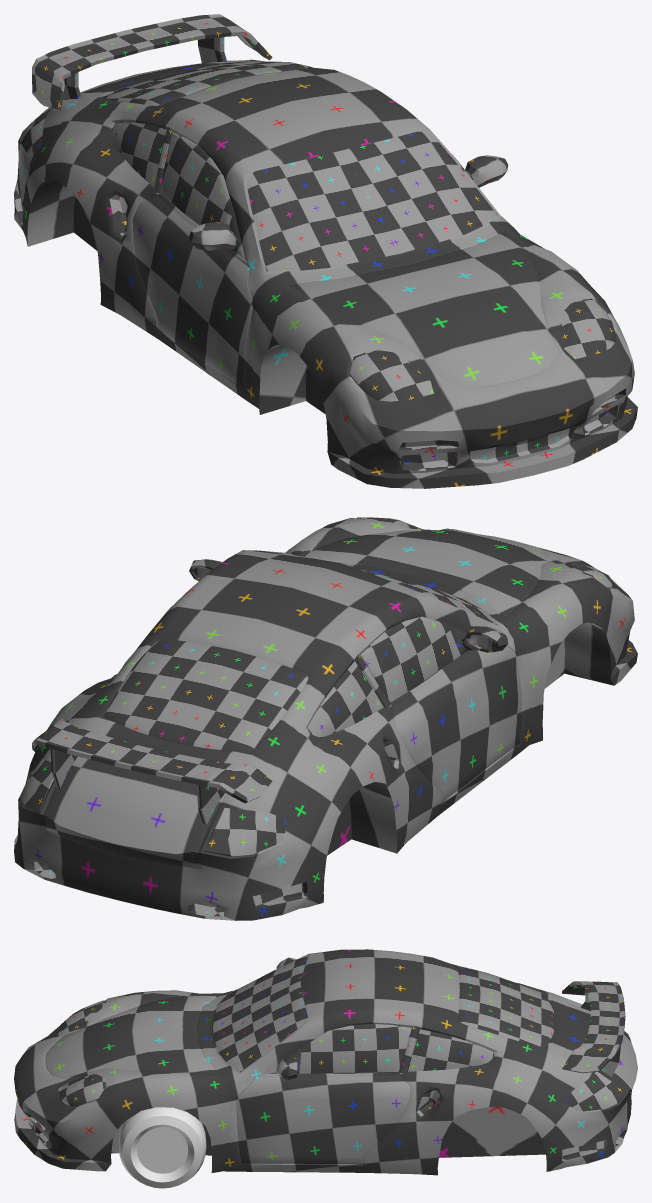
Rendered from Porsche_911_GT2_2003.glb.
3 views of the same model, one above another, from view 1: azimuth 30°, elevation 25°; view 2: azimuth 150°, elevation 25°; view 3: azimuth 270°, elevation 25° (orthographic). The views are drawn at different scales.
Parts seen in each view (by area): view 1: Body; view 2: Body; view 3: Body, Wheel.
Part boxes in pixels (left/top/right/bottom): Body: left=14, top=14, right=637, bottom=488; Body: left=14, top=517, right=637, bottom=920; Body: left=14, top=949, right=637, bottom=1175; Wheel: left=119, top=1107, right=206, bottom=1188.
Size of the model in its own units: 1.87 by 1.25 by 4.29.
Materials: 2 (1 with a texture image).
